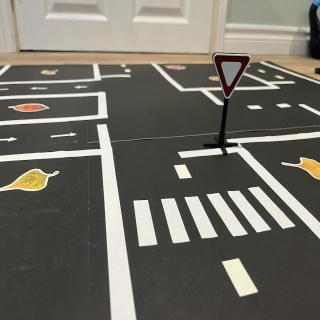road_crosswalk: (132, 180, 302, 254)
road_oneway: (49, 129, 79, 142), (1, 135, 21, 147), (31, 87, 51, 93), (73, 85, 93, 91)
sign_yield: (214, 54, 252, 100)
